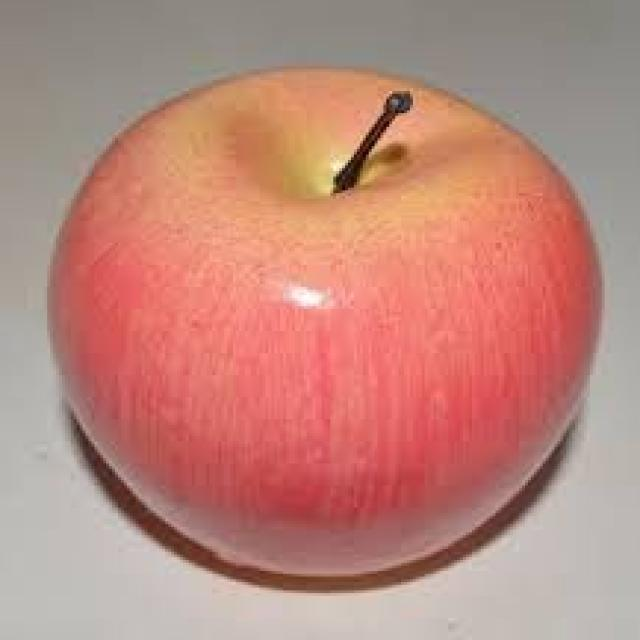Healty Apple: (46, 72, 600, 579)
